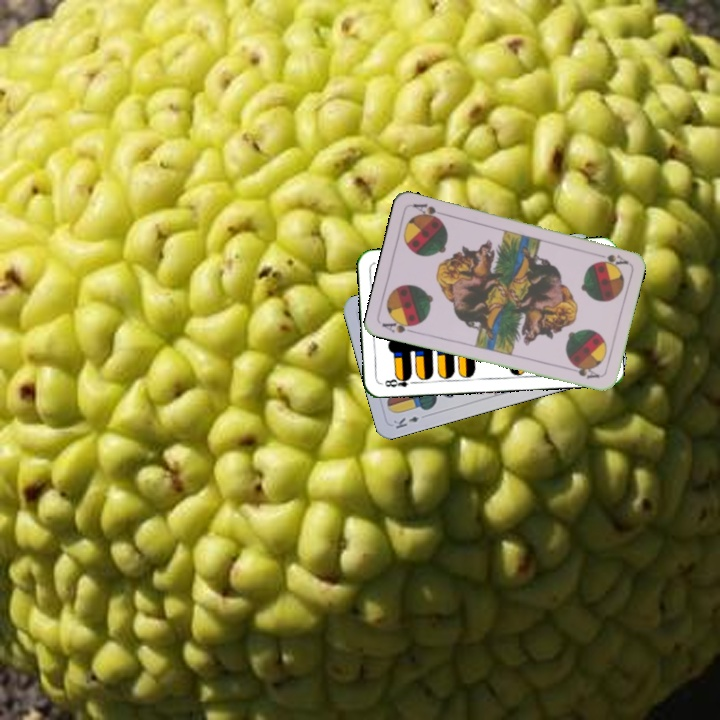E8: (381, 372, 419, 390)
EK: (389, 412, 421, 431)
SA: (378, 315, 420, 336), (590, 249, 630, 267)
